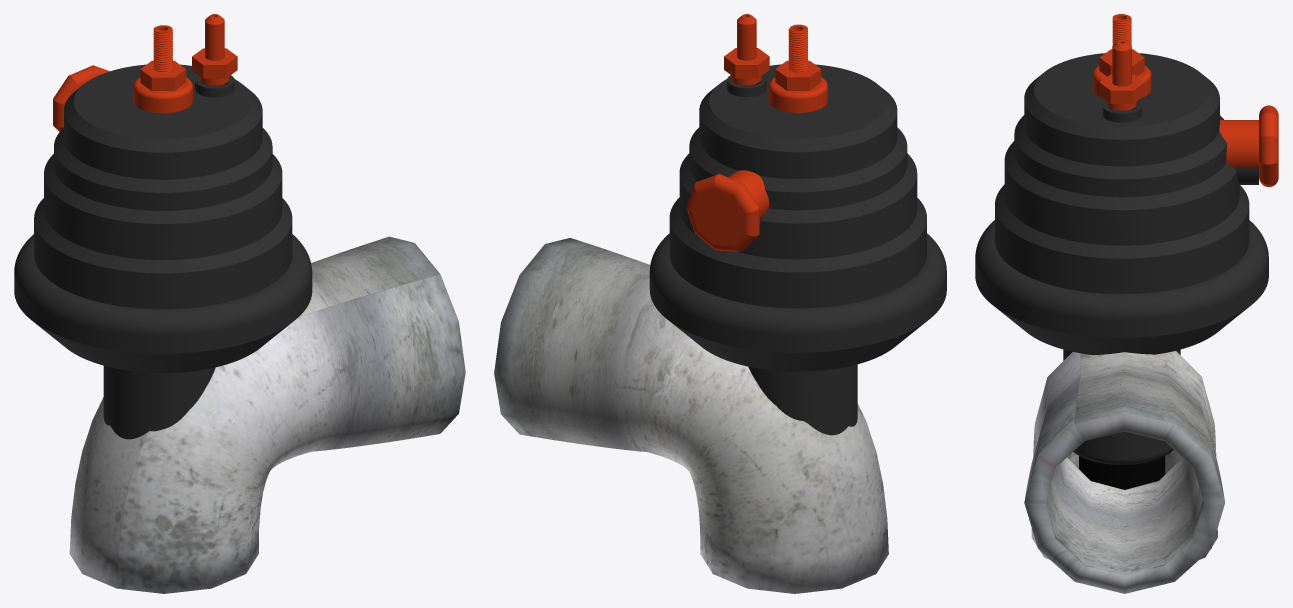
The model's file is turboBig_blowoff_valve.obj.
3 renders of one model, left to right at view 1: azimuth 30°, elevation 25°; view 2: azimuth 150°, elevation 25°; view 3: azimuth 270°, elevation 25°, orthographic.
Parts seen in each view (by area): view 1: TurboBig-Blowoff-Valve-Valve_Blowoff_Valve.002, TurboBig-Blowoff-Valve-Tube_BezierCurve.003, TurboBig-Blowoff-Valve-Port2_Blowoff_Valve_Port2.001, TurboBig-Blowoff-Valve-Port1_Blowoff_Valve_Port1.001, TurboBig-Blowoff-Valve-Adjuster_Blowoff_Valve_Adjuster.001; view 2: TurboBig-Blowoff-Valve-Tube_BezierCurve.003, TurboBig-Blowoff-Valve-Valve_Blowoff_Valve.002, TurboBig-Blowoff-Valve-Adjuster_Blowoff_Valve_Adjuster.001, TurboBig-Blowoff-Valve-Port2_Blowoff_Valve_Port2.001, TurboBig-Blowoff-Valve-Port1_Blowoff_Valve_Port1.001; view 3: TurboBig-Blowoff-Valve-Valve_Blowoff_Valve.002, TurboBig-Blowoff-Valve-Tube_BezierCurve.003, TurboBig-Blowoff-Valve-Adjuster_Blowoff_Valve_Adjuster.001, TurboBig-Blowoff-Valve-Port1_Blowoff_Valve_Port1.001, TurboBig-Blowoff-Valve-Cylinder_Cylinder.001, TurboBig-Blowoff-Valve-Port2_Blowoff_Valve_Port2.001.
Boxes of the visible parts, box(x1,y1,x2,y2) form: TurboBig-Blowoff-Valve-Valve_Blowoff_Valve.002: box(14, 64, 312, 439); TurboBig-Blowoff-Valve-Tube_BezierCurve.003: box(69, 236, 465, 593); TurboBig-Blowoff-Valve-Port2_Blowoff_Valve_Port2.001: box(133, 25, 192, 113); TurboBig-Blowoff-Valve-Port1_Blowoff_Valve_Port1.001: box(192, 14, 237, 85); TurboBig-Blowoff-Valve-Adjuster_Blowoff_Valve_Adjuster.001: box(53, 65, 109, 131); TurboBig-Blowoff-Valve-Tube_BezierCurve.003: box(494, 238, 888, 593); TurboBig-Blowoff-Valve-Valve_Blowoff_Valve.002: box(649, 64, 946, 435); TurboBig-Blowoff-Valve-Adjuster_Blowoff_Valve_Adjuster.001: box(686, 170, 769, 251); TurboBig-Blowoff-Valve-Port2_Blowoff_Valve_Port2.001: box(768, 24, 827, 112); TurboBig-Blowoff-Valve-Port1_Blowoff_Valve_Port1.001: box(724, 14, 769, 85); TurboBig-Blowoff-Valve-Valve_Blowoff_Valve.002: box(975, 53, 1268, 464); TurboBig-Blowoff-Valve-Tube_BezierCurve.003: box(1024, 351, 1224, 593); TurboBig-Blowoff-Valve-Adjuster_Blowoff_Valve_Adjuster.001: box(1219, 105, 1278, 187); TurboBig-Blowoff-Valve-Port1_Blowoff_Valve_Port1.001: box(1099, 40, 1144, 110); TurboBig-Blowoff-Valve-Cylinder_Cylinder.001: box(1079, 456, 1165, 489); TurboBig-Blowoff-Valve-Port2_Blowoff_Valve_Port2.001: box(1092, 14, 1151, 97).
Size of the model in its own units: 0.0623 by 0.082 by 0.0434.
